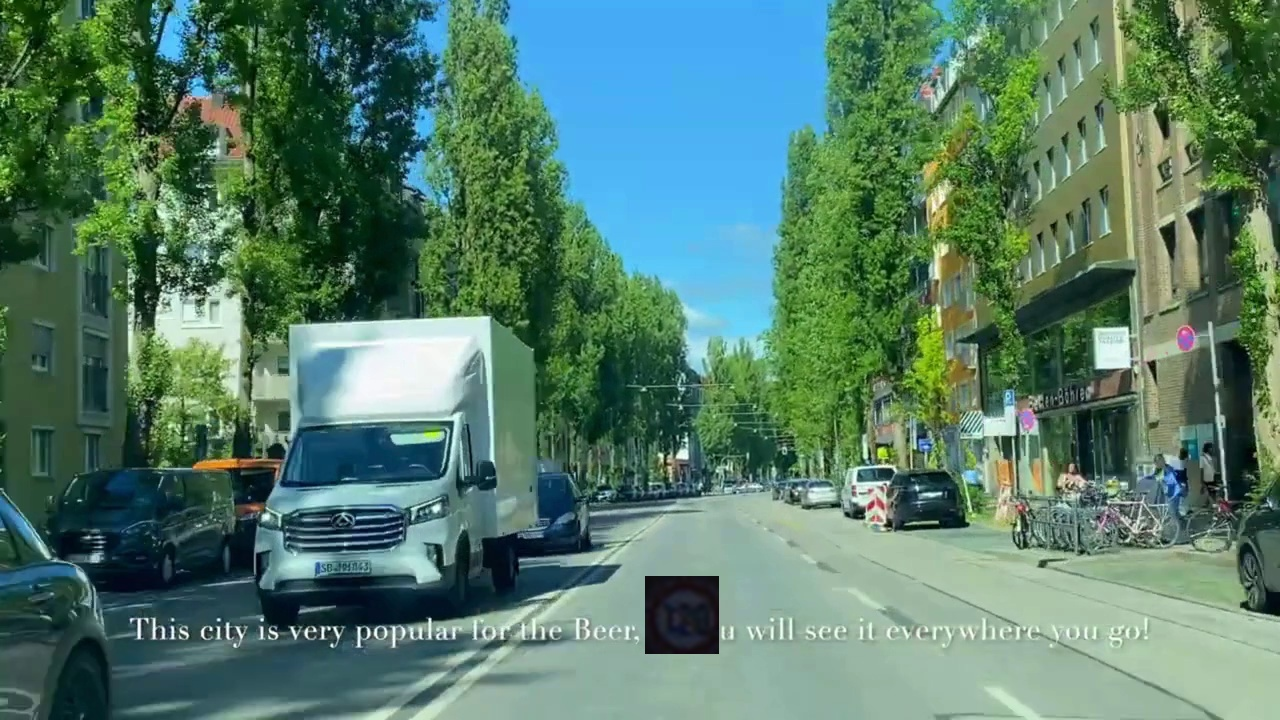Speed 120: (645, 576, 719, 654)
